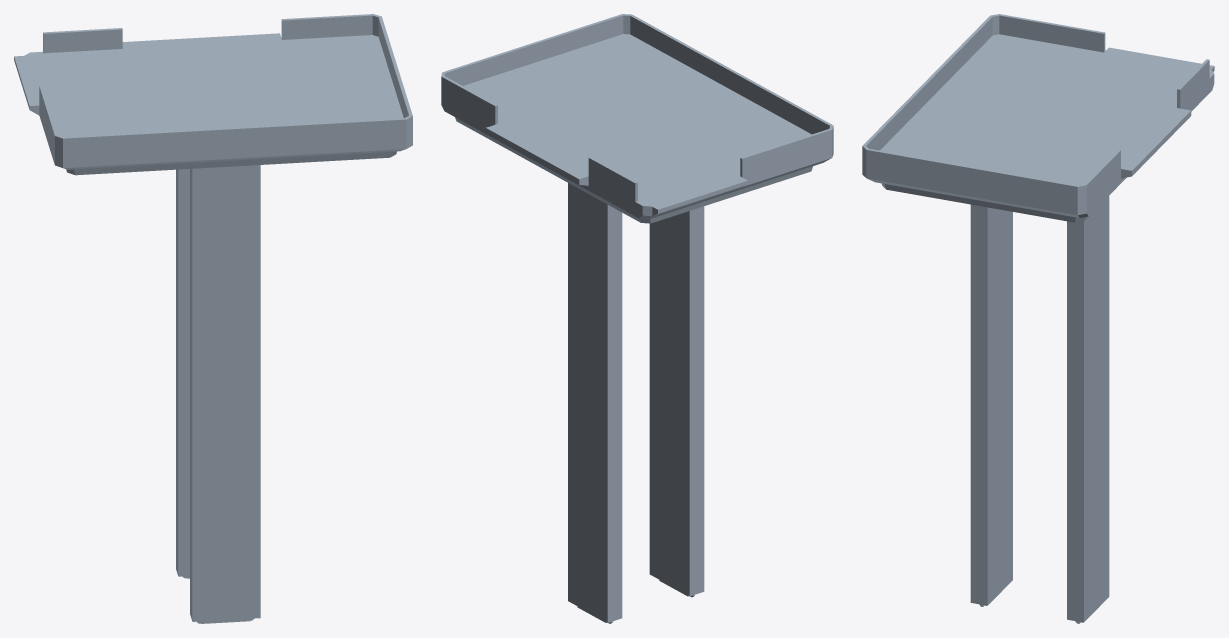
The model's file is Transport_l.fbx.
3 views of the same model, side by side, from view 1: azimuth 30°, elevation 25°; view 2: azimuth 150°, elevation 25°; view 3: azimuth 270°, elevation 25° (orthographic). The views are drawn at different scales.
Visible parts, largest first — view 1: 立方体.178; view 2: 立方体.178; view 3: 立方体.178.
Boxes of the visible parts, <box> form: 立方体.178: <box>14,14,412,623</box>; 立方体.178: <box>441,14,833,623</box>; 立方体.178: <box>862,14,1214,623</box>.
Bounding box in the file's own units: 1071 × 922 × 1457.
